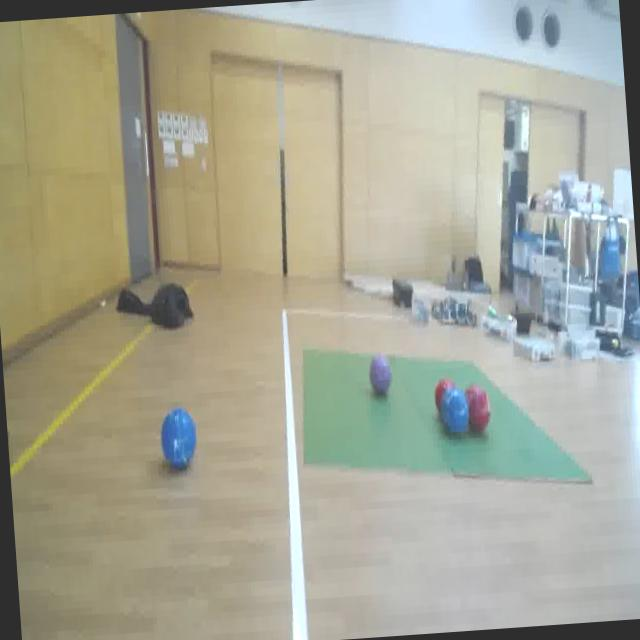blue_ball: (157, 402, 200, 472), (439, 387, 471, 437)
purple_ball: (367, 352, 393, 393)
red_ball: (463, 379, 492, 436), (433, 376, 454, 414)
